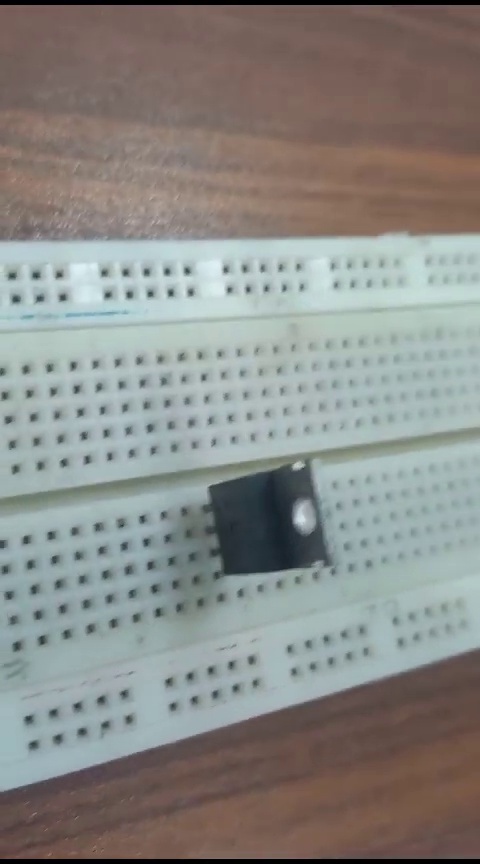voltage regulator: (193, 471, 360, 597)
